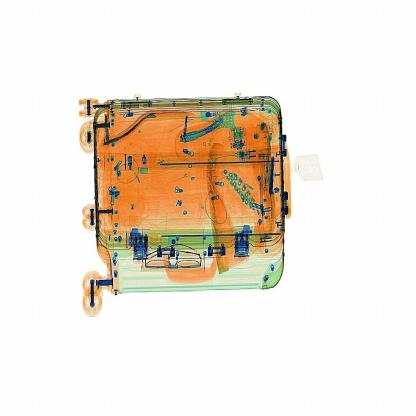knife: (262, 146, 286, 196)
